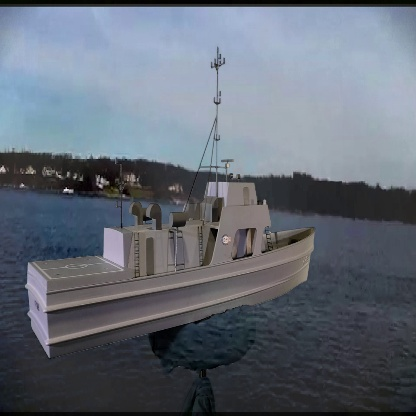YP689: (24, 48, 316, 366)
